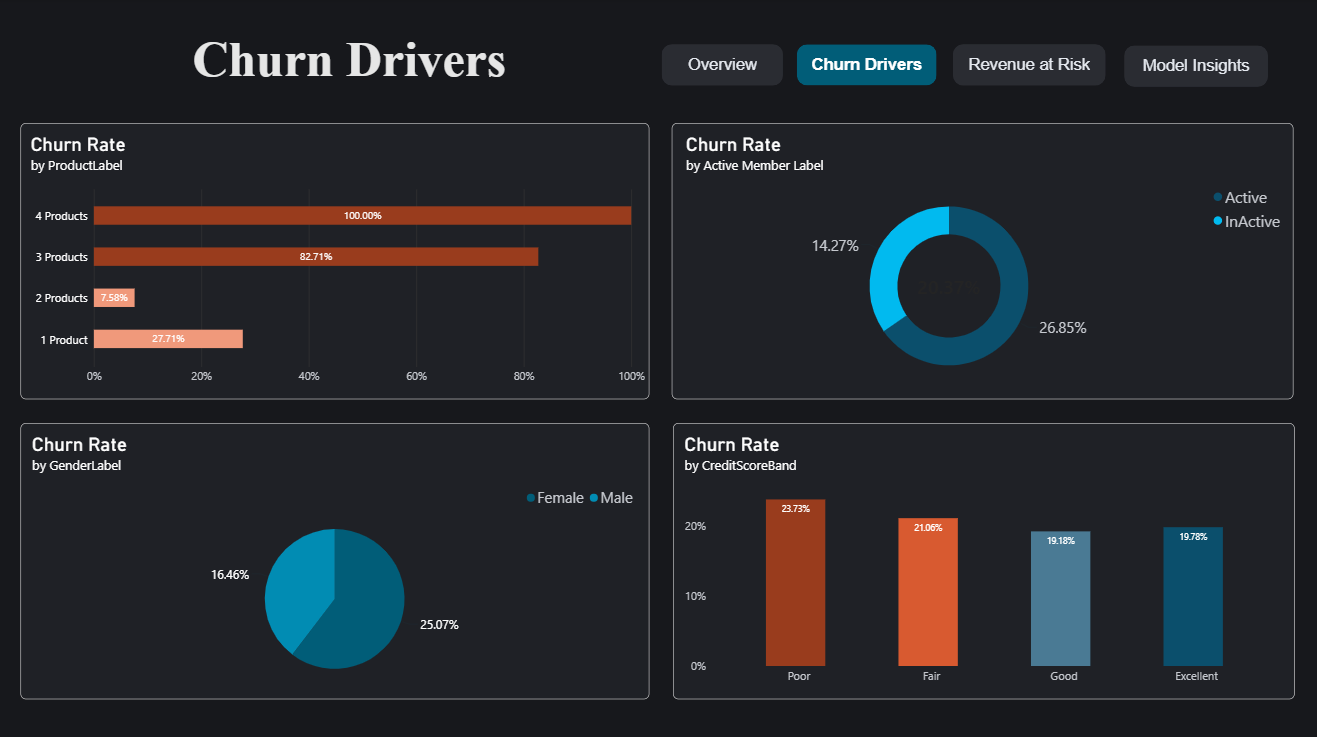

Layout of this report page (visuals, bound fields, positions):
{"tool":"powerbi","page":{"name":"Churn Drivers ","canvas":[1920,1080],"ordinal":2},"visuals":[{"type":"clusteredBarChart","fields":{"Category":["churn_scored_data.ProductLabel"],"Y":["churn_scored_data.Churn Rate"]},"box":[32.6,181,910,400],"z":0},{"type":"pieChart","fields":{"Category":["churn_scored_data.GenderLabel"],"Y":["churn_scored_data.Churn Rate"]},"box":[32.6,615.3,910,400],"z":1000},{"type":"donutChart","fields":{"Category":["churn_scored_data.Active Member Label"],"Y":["churn_scored_data.Churn Rate"]},"box":[975.4,181,900,400],"z":2000},{"type":"clusteredColumnChart","fields":{"Category":["churn_scored_data.CreditScoreBand"],"Y":["churn_scored_data.Churn Rate"]},"box":[977.2,615.3,900,400],"z":3000},{"type":"shape","box":[1155.9,67.5,202.6,59.7],"z":4000},{"type":"shape","box":[1381.8,67.5,220.8,59.7],"z":5000},{"type":"shape","box":[1630.5,68.8,208,59.7],"z":6000},{"type":"shape","box":[961.1,67.5,175.5,59.7],"z":7000},{"type":"textbox","box":[155.6,47.1,705.8,97.7],"z":8000}]}

Visuals, with their boxes in screenshot pixels (x1, y1, x2, y2), scaled from the page's 1920x1080 canvas onto the 1317x737 screenshot:
clusteredBarChart - churn_scored_data.ProductLabel x churn_scored_data.Churn Rate: bbox(22, 124, 647, 396)
pieChart - churn_scored_data.GenderLabel x churn_scored_data.Churn Rate: bbox(22, 420, 647, 693)
donutChart - churn_scored_data.Active Member Label x churn_scored_data.Churn Rate: bbox(669, 124, 1286, 396)
clusteredColumnChart - churn_scored_data.CreditScoreBand x churn_scored_data.Churn Rate: bbox(670, 420, 1288, 693)
shape: bbox(793, 46, 932, 87)
shape: bbox(948, 46, 1099, 87)
shape: bbox(1118, 47, 1261, 88)
shape: bbox(659, 46, 780, 87)
textbox: bbox(107, 32, 591, 99)
